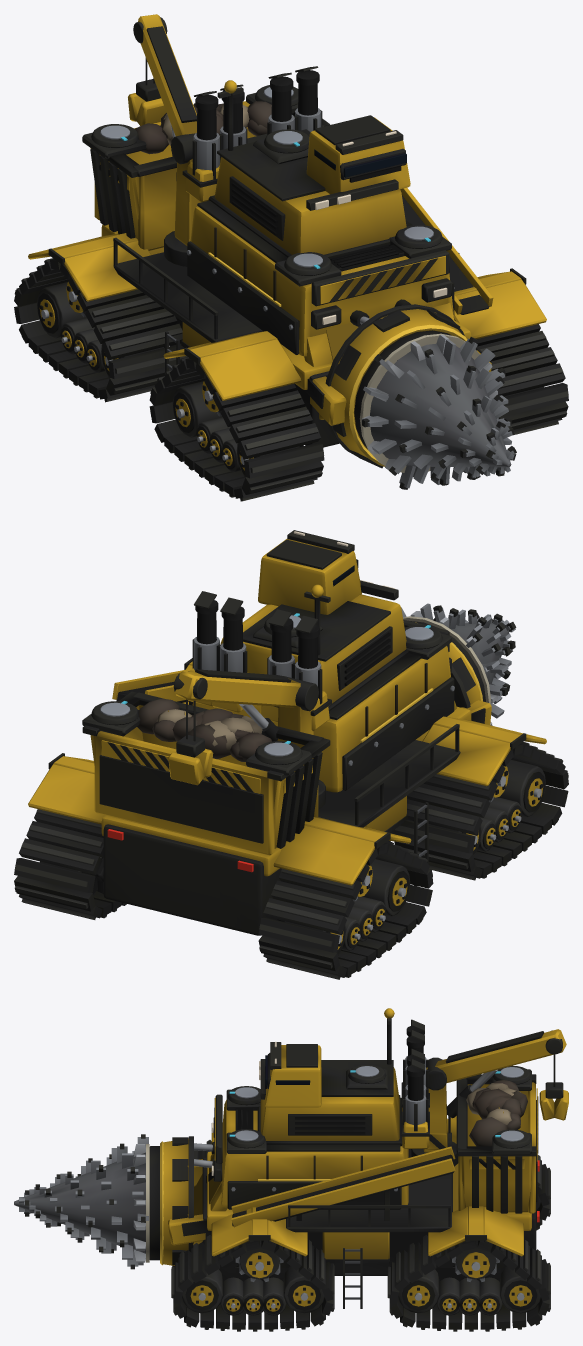
The model's file is ex_crawler_11.glb.
3 views of the same model, one above another, from view 1: azimuth 30°, elevation 25°; view 2: azimuth 150°, elevation 25°; view 3: azimuth 270°, elevation 25° (orthographic). The views are drawn at different scales.
Visible parts, largest first — view 1: body, drill, wheel_20, wheel_8; view 2: body, drill, wheel_7, wheel_19, wheel_11, wheel_23; view 3: body, drill, wheel_2, wheel_14, wheel_13, wheel_1, wheel_0, wheel_12, wheel_5, wheel_17, wheel_15, wheel_3 (+2 smaller).
Boxes of the visible parts, x1,y1,x2,y2 form: body: (14, 14, 568, 501); drill: (354, 330, 516, 489); wheel_20: (37, 282, 86, 338); wheel_8: (172, 381, 222, 437); body: (14, 530, 568, 979); drill: (401, 603, 516, 725); wheel_7: (498, 760, 545, 817); wheel_19: (362, 859, 410, 916); wheel_11: (489, 797, 521, 833); wheel_23: (353, 896, 386, 932); body: (160, 1008, 568, 1331); drill: (14, 1134, 159, 1269); wheel_2: (283, 1266, 324, 1313); wheel_14: (500, 1266, 540, 1313); wheel_13: (398, 1269, 439, 1313); wheel_1: (182, 1269, 222, 1313); wheel_0: (235, 1240, 283, 1281); wheel_12: (452, 1240, 499, 1281); wheel_5: (220, 1277, 243, 1315); wheel_17: (436, 1277, 459, 1315); wheel_15: (479, 1277, 502, 1315); wheel_3: (262, 1277, 286, 1315).
Bounding box in the file's own units: 11.97 × 10.69 × 22.
